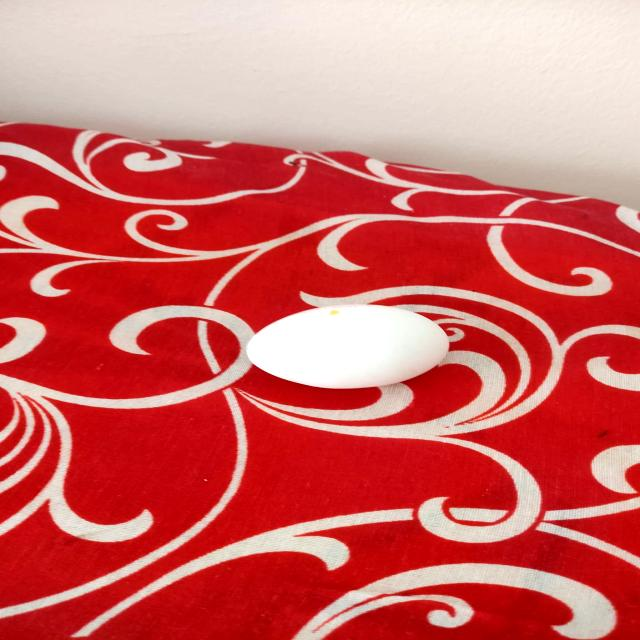egg: (239, 301, 453, 392)
